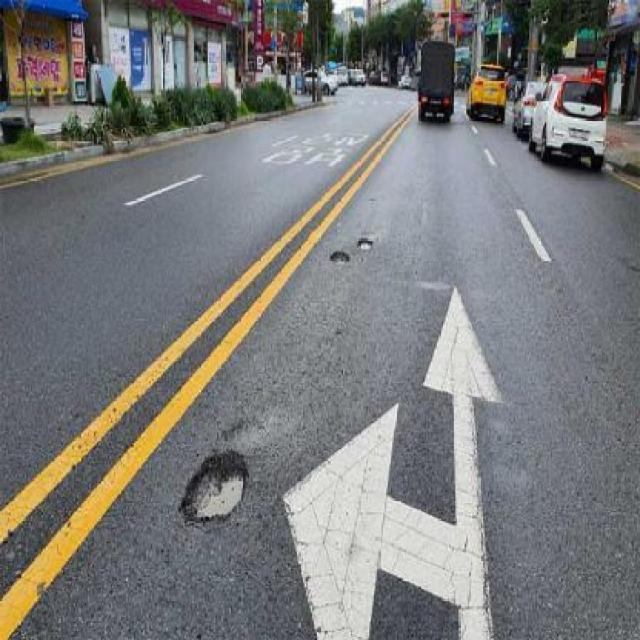Buraco: (178, 448, 250, 525), (329, 250, 352, 266), (356, 237, 375, 250)
